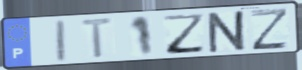1: (128, 15, 156, 58)
I: (54, 18, 70, 64)
N: (206, 9, 249, 55)
T: (79, 16, 117, 61)
Z: (161, 12, 207, 56), (248, 6, 290, 52)
